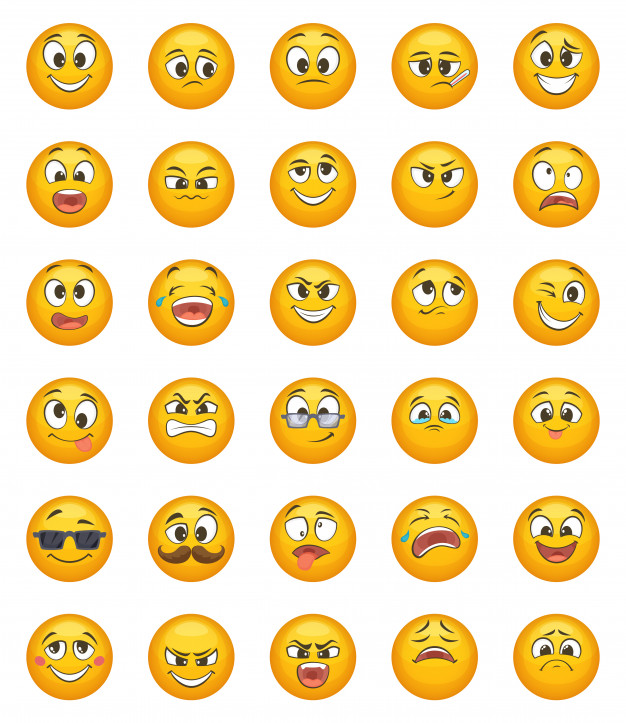triste: (406, 623, 463, 686), (408, 45, 464, 100), (529, 628, 586, 681), (156, 50, 222, 89)
